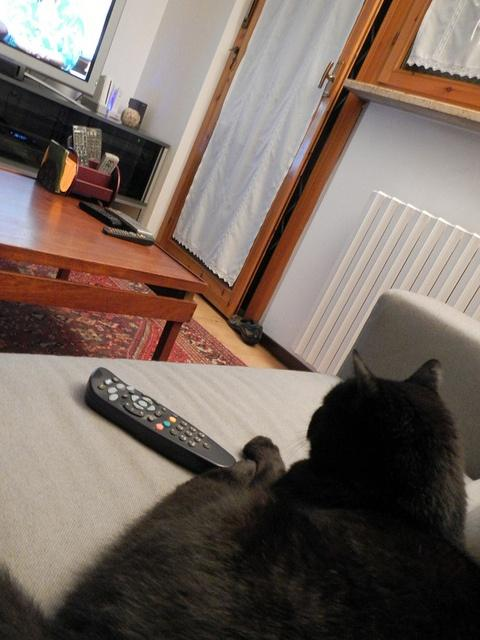AIO PC-Monitor-TV: (0, 0, 127, 116)
Meja: (0, 163, 209, 364)
